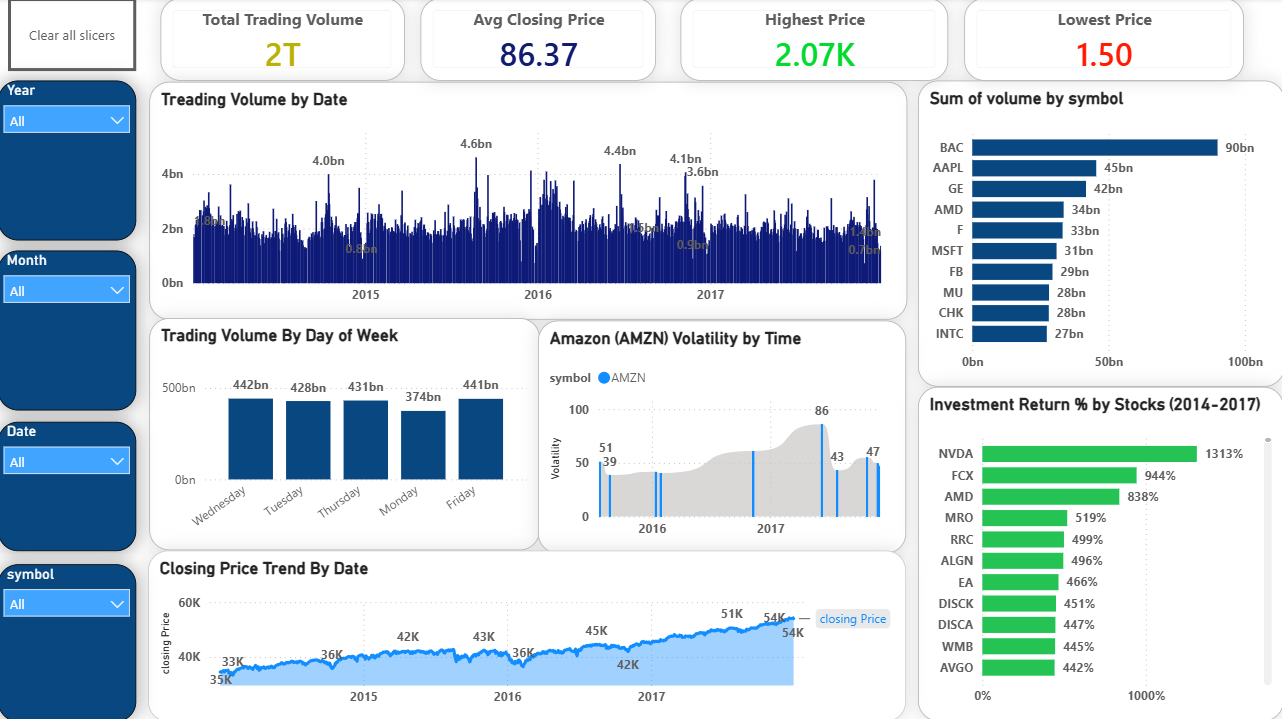

The dashboard page shown, as its layout file describes it:
{"tool":"powerbi","page":{"name":"Page 1","canvas":[1280,720],"ordinal":0},"visuals":[{"type":"cardVisual","fields":{"Data":["Date Table.Total Volume"]},"box":[161.9,0,242.9,82.3],"z":0},{"type":"clusteredColumnChart","title":"Treading Volume by Date","fields":{"Category":["Stocks.date"],"Y":["Sum(Stocks.volume)"]},"box":[150,82.9,754.3,237.1],"z":1000},{"type":"barChart","fields":{"Category":["Stocks.symbol"],"Y":["Sum(Stocks.volume)"]},"box":[915.3,82.3,365,304.6],"z":2000},{"type":"columnChart","title":"Trading Volume By Day of Week","fields":{"Category":["Stocks.Day Name"],"Y":["Date Table.Total Volume"]},"box":[150,318.6,388.6,231.4],"z":3000},{"type":"columnChart","title":"Amazon (AMZN) Volatility by Time","fields":{"Category":["Stocks.date"],"Y":["Date Table.Volatility"],"Series":["Stocks.symbol"]},"box":[537.9,321.1,366.4,231.9],"z":4000},{"type":"barChart","title":"Investment Return % by Stocks (2014-2017)","fields":{"Category":["Stocks.symbol"],"Y":["Date Table.Investment Return %"]},"box":[915.7,387.1,364.3,332.9],"z":5000},{"type":"lineChart","title":"Closing Price Trend By Date","fields":{"Category":["Stocks.date"],"Y":["Sum(Stocks.close)"]},"box":[149.6,550.3,754.7,170.2],"z":6000},{"type":"cardVisual","fields":{"Data":["Date Table.Avg Close"]},"box":[419.9,0,234.6,82.3],"z":7000},{"type":"cardVisual","fields":{"Data":["Date Table.Highest Price"]},"box":[679.2,0,266.2,82.1],"z":8000},{"type":"cardVisual","fields":{"Data":["Date Table.Lowest Price"]},"box":[961.6,0,278.6,82.1],"z":9000},{"type":"slicer","fields":{"Values":["Date Table.Year"]},"box":[0,82.3,137.2,159.2],"z":10000},{"type":"slicer","fields":{"Values":["Date Table.Month"]},"box":[0,251.1,137.2,159.2],"z":11000},{"type":"slicer","fields":{"Values":["Date Table.Date"]},"box":[0,421.3,137.2,129],"z":12000},{"type":"actionButton","box":[10,0,127.6,72.7],"z":13000},{"type":"slicer","fields":{"Values":["Stocks.symbol"]},"box":[0,564,137.2,156.4],"z":14000}]}

Visuals, with their boxes in screenshot pixels (x1, y1, x2, y2), scaled from the page's 1280x720 canvas onto the 1282x719 screenshot:
cardVisual - Date Table.Total Volume: (x1=162, y1=0, x2=405, y2=82)
"Treading Volume by Date" clusteredColumnChart: (x1=150, y1=83, x2=906, y2=320)
barChart - Stocks.symbol x Sum(Stocks.volume): (x1=917, y1=82, x2=1281, y2=386)
"Trading Volume By Day of Week" columnChart: (x1=150, y1=318, x2=539, y2=549)
"Amazon (AMZN) Volatility by Time" columnChart: (x1=539, y1=321, x2=906, y2=552)
"Investment Return % by Stocks (2014-2017)" barChart: (x1=917, y1=387, x2=1281, y2=718)
"Closing Price Trend By Date" lineChart: (x1=150, y1=550, x2=906, y2=718)
cardVisual - Date Table.Avg Close: (x1=421, y1=0, x2=656, y2=82)
cardVisual - Date Table.Highest Price: (x1=680, y1=0, x2=947, y2=82)
cardVisual - Date Table.Lowest Price: (x1=963, y1=0, x2=1242, y2=82)
slicer - Date Table.Year: (x1=0, y1=82, x2=137, y2=241)
slicer - Date Table.Month: (x1=0, y1=251, x2=137, y2=410)
slicer - Date Table.Date: (x1=0, y1=421, x2=137, y2=550)
actionButton: (x1=10, y1=0, x2=138, y2=73)
slicer - Stocks.symbol: (x1=0, y1=563, x2=137, y2=718)
